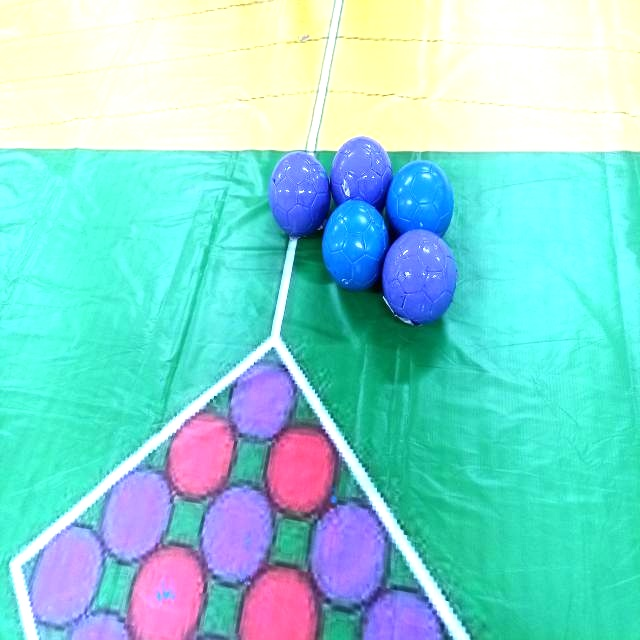blue_ball: (322, 201, 387, 290), (389, 158, 454, 234)
purple_ball: (381, 232, 460, 327), (268, 149, 329, 235), (331, 137, 392, 205)
